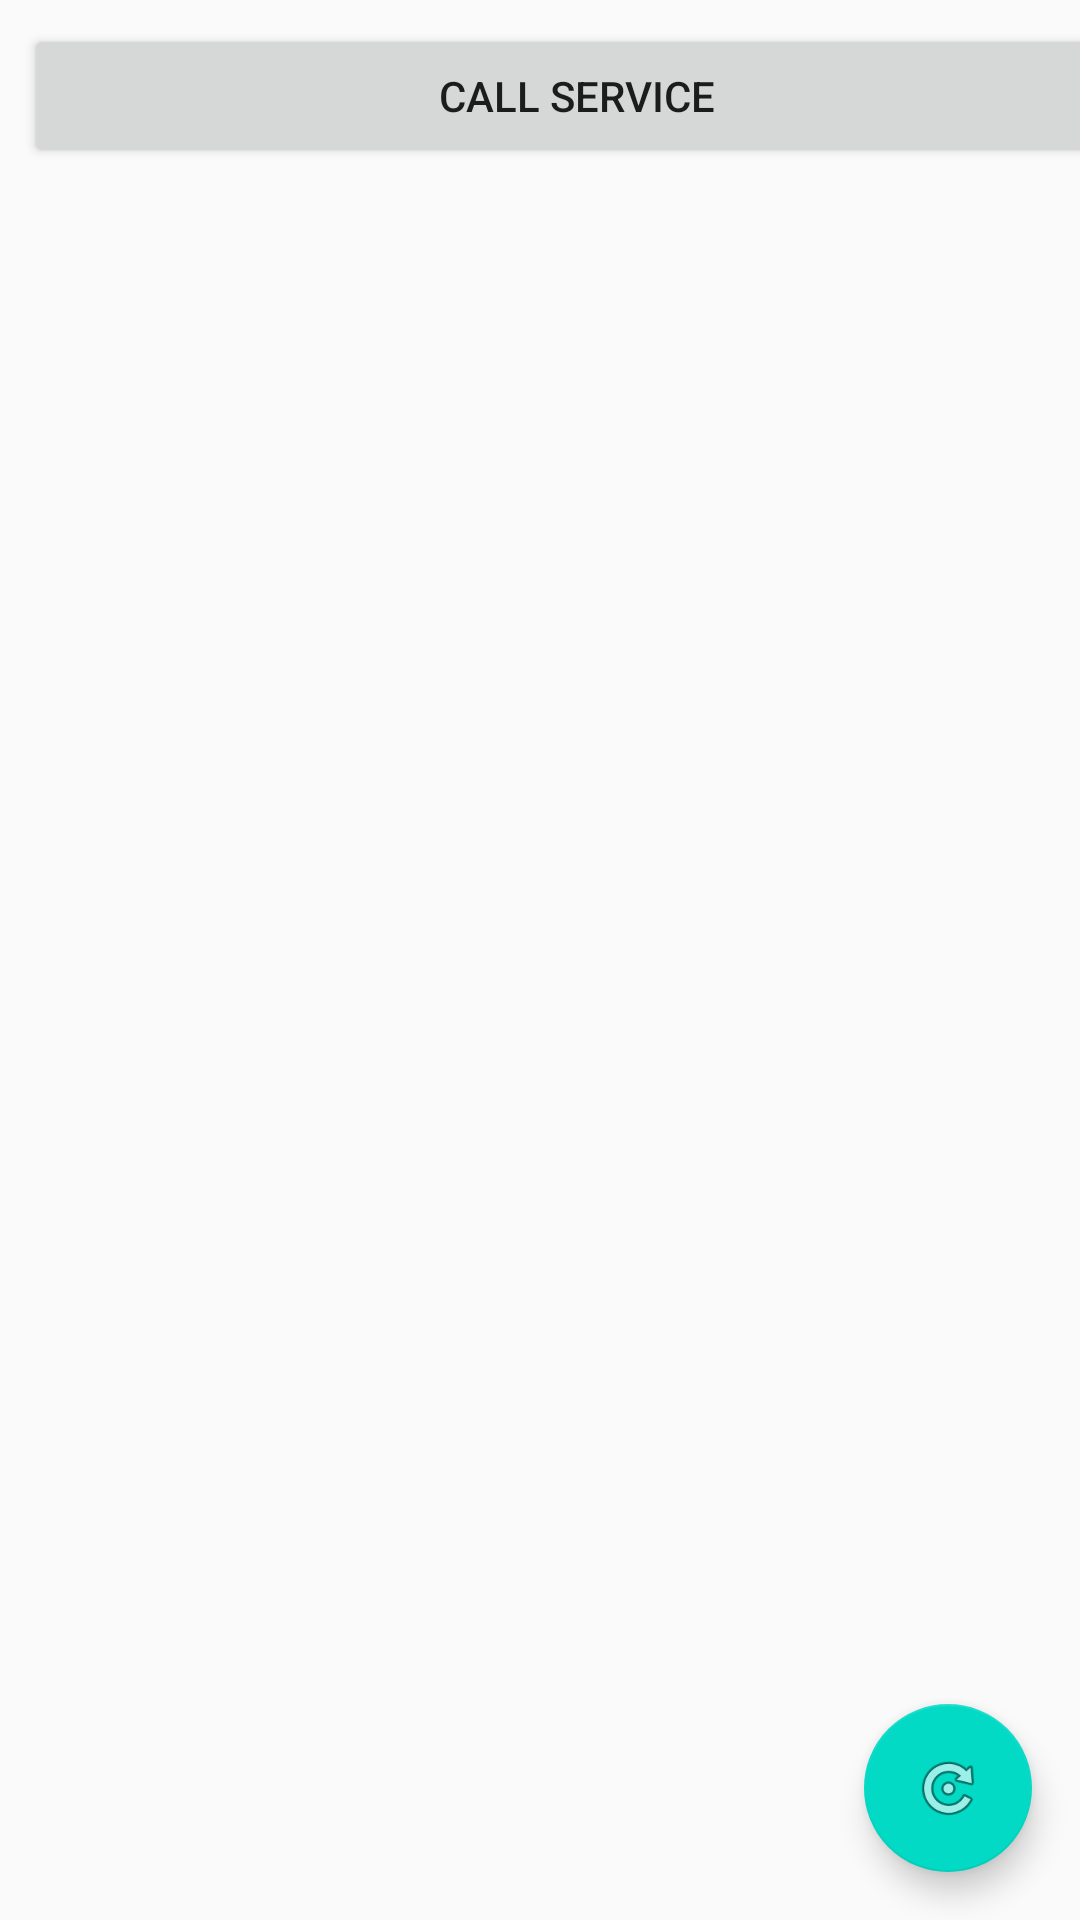

Screen size 1080x1920. Icon name, then its center in pixels as [x,y]:
rotate: [948,1788]
